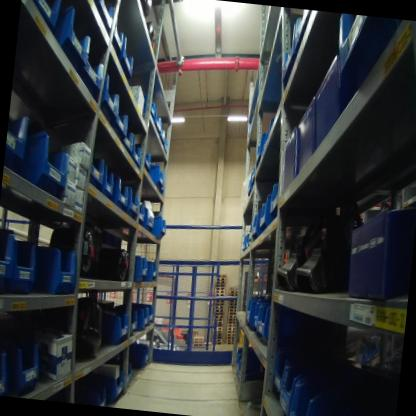pallet: (214, 275, 226, 282), (214, 278, 226, 285), (212, 315, 224, 322), (212, 339, 223, 346), (193, 334, 204, 341), (215, 272, 227, 278), (213, 288, 225, 294), (214, 297, 224, 304), (214, 301, 224, 308), (214, 285, 225, 291), (214, 291, 225, 297), (212, 313, 223, 319), (212, 319, 223, 325), (211, 331, 222, 337), (192, 338, 203, 344), (225, 335, 234, 342), (215, 282, 225, 288), (211, 325, 223, 330), (213, 304, 224, 309), (213, 307, 224, 312), (213, 310, 224, 315), (212, 322, 223, 327), (192, 342, 203, 347), (211, 337, 221, 342), (211, 329, 223, 333), (203, 340, 211, 346), (226, 331, 234, 337), (229, 285, 238, 290), (227, 307, 236, 312), (215, 295, 225, 299), (229, 292, 237, 297), (227, 316, 235, 321), (227, 320, 235, 325), (227, 325, 235, 330), (226, 328, 234, 333), (227, 305, 236, 309), (229, 289, 237, 293), (228, 301, 236, 305), (227, 311, 235, 315), (225, 340, 233, 344), (211, 336, 221, 339), (229, 299, 237, 302), (227, 314, 235, 317), (228, 323, 234, 327)
